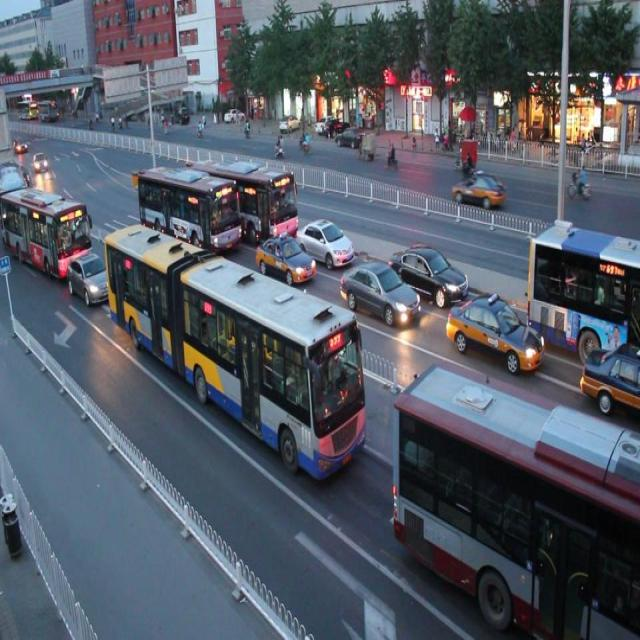car: (446, 294, 544, 382), (337, 258, 416, 331), (390, 243, 468, 309), (580, 337, 640, 408), (253, 230, 314, 289), (294, 214, 352, 273), (67, 253, 116, 306)
van: (102, 218, 366, 482), (392, 366, 640, 640), (527, 225, 640, 358), (136, 160, 240, 262), (191, 153, 298, 248), (1, 182, 90, 272)
